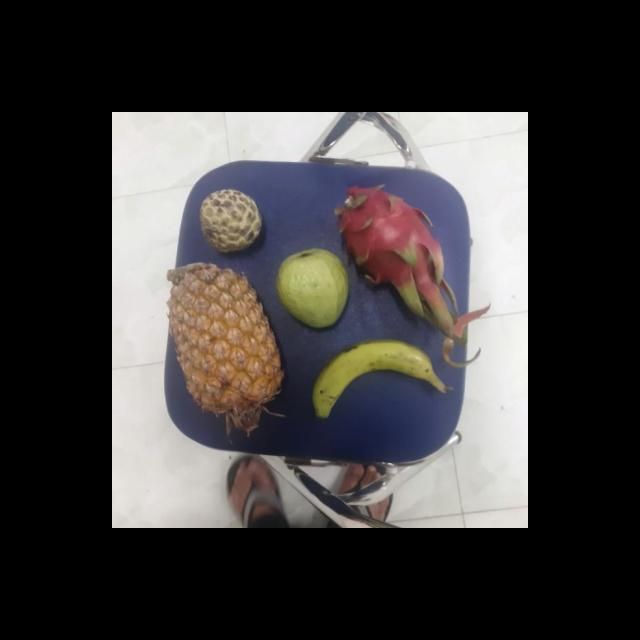Sakya fruit: (199, 190, 265, 250)
banana: (311, 339, 450, 419)
guava: (276, 248, 352, 328)
pineapple: (172, 264, 282, 416)
pitaya: (338, 190, 446, 291)
